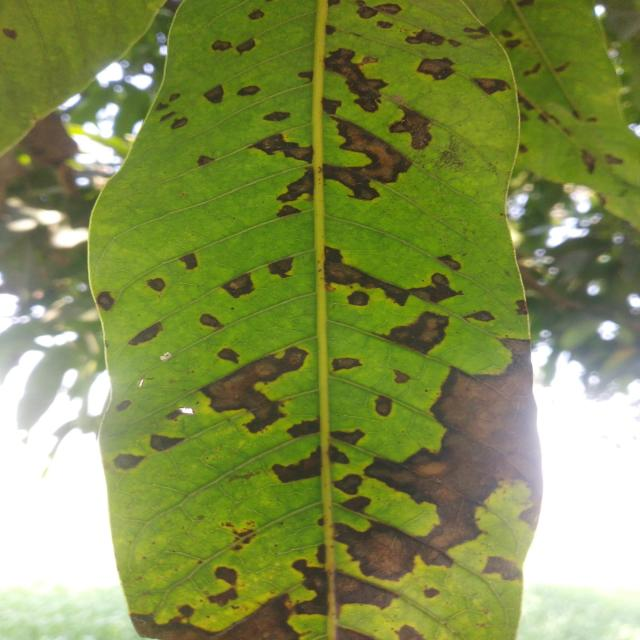Anthracnose: (341, 331, 600, 576), (200, 339, 329, 446), (316, 239, 465, 321), (303, 108, 414, 213), (326, 513, 457, 594), (131, 594, 300, 639), (316, 246, 416, 307), (319, 39, 396, 117), (381, 299, 451, 358), (327, 571, 399, 623), (385, 102, 440, 154), (270, 447, 329, 491), (274, 167, 326, 215), (251, 129, 315, 163), (293, 559, 328, 616), (293, 560, 327, 615), (483, 553, 525, 584), (222, 271, 258, 304), (331, 468, 364, 497), (128, 322, 163, 346), (357, 0, 401, 19), (206, 586, 240, 610), (418, 58, 454, 80), (212, 561, 242, 587), (340, 491, 372, 515), (149, 433, 184, 454), (405, 29, 445, 46), (203, 83, 229, 108), (578, 147, 601, 175), (94, 288, 119, 313), (268, 258, 296, 280), (286, 420, 320, 438), (472, 78, 510, 94), (437, 250, 463, 273), (331, 429, 365, 446), (179, 250, 201, 272), (332, 355, 362, 371), (198, 312, 224, 330), (114, 454, 145, 469), (320, 97, 342, 117), (463, 25, 490, 41), (336, 628, 374, 639), (217, 346, 241, 363), (375, 1, 402, 16), (357, 0, 378, 19), (235, 38, 257, 56), (522, 61, 544, 79), (397, 625, 425, 639), (347, 290, 370, 307), (374, 395, 392, 416), (276, 203, 301, 218), (178, 602, 197, 620), (165, 406, 184, 424), (464, 310, 495, 321), (247, 7, 265, 24), (114, 397, 132, 414), (169, 116, 189, 130), (237, 85, 261, 96), (195, 153, 215, 166), (263, 112, 290, 121), (147, 278, 165, 291), (555, 61, 573, 74), (158, 110, 177, 122), (446, 36, 462, 50), (394, 370, 410, 383), (212, 40, 231, 50), (605, 154, 624, 164), (505, 39, 522, 50), (423, 588, 440, 598), (3, 28, 17, 39), (298, 71, 313, 81), (168, 91, 181, 102), (324, 24, 335, 36), (376, 21, 393, 28), (517, 0, 533, 6), (156, 102, 168, 110), (519, 144, 529, 152)
